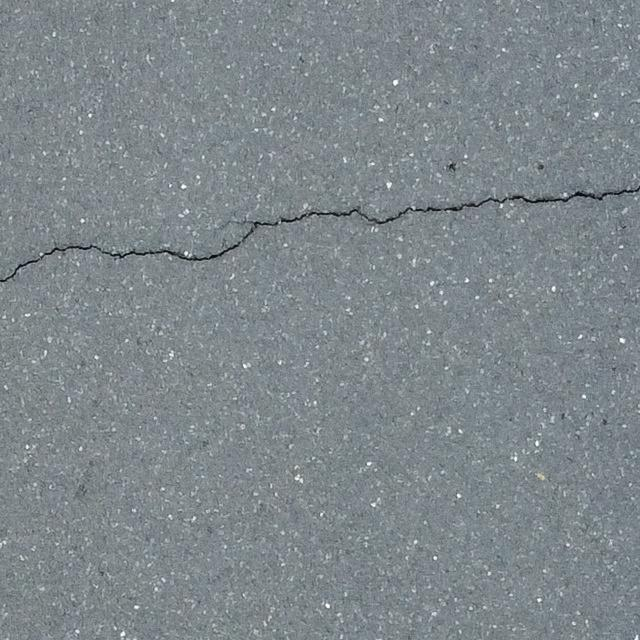TransverseCrack: (1, 186, 640, 281)
